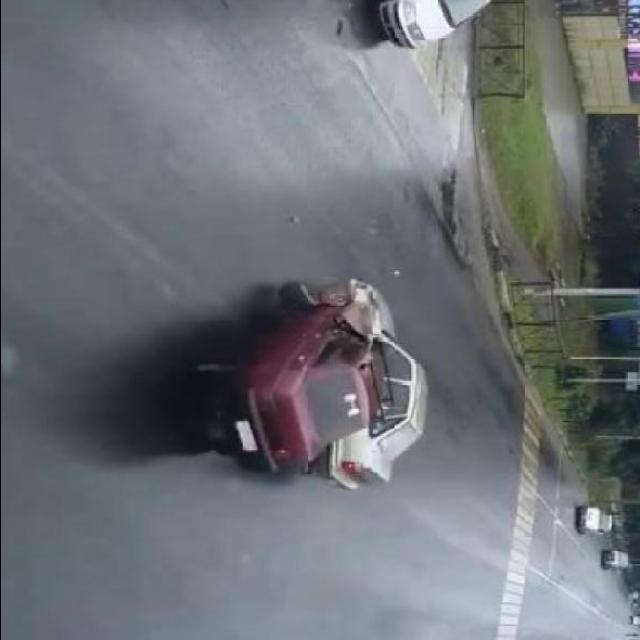accident: (280, 250, 428, 406)
